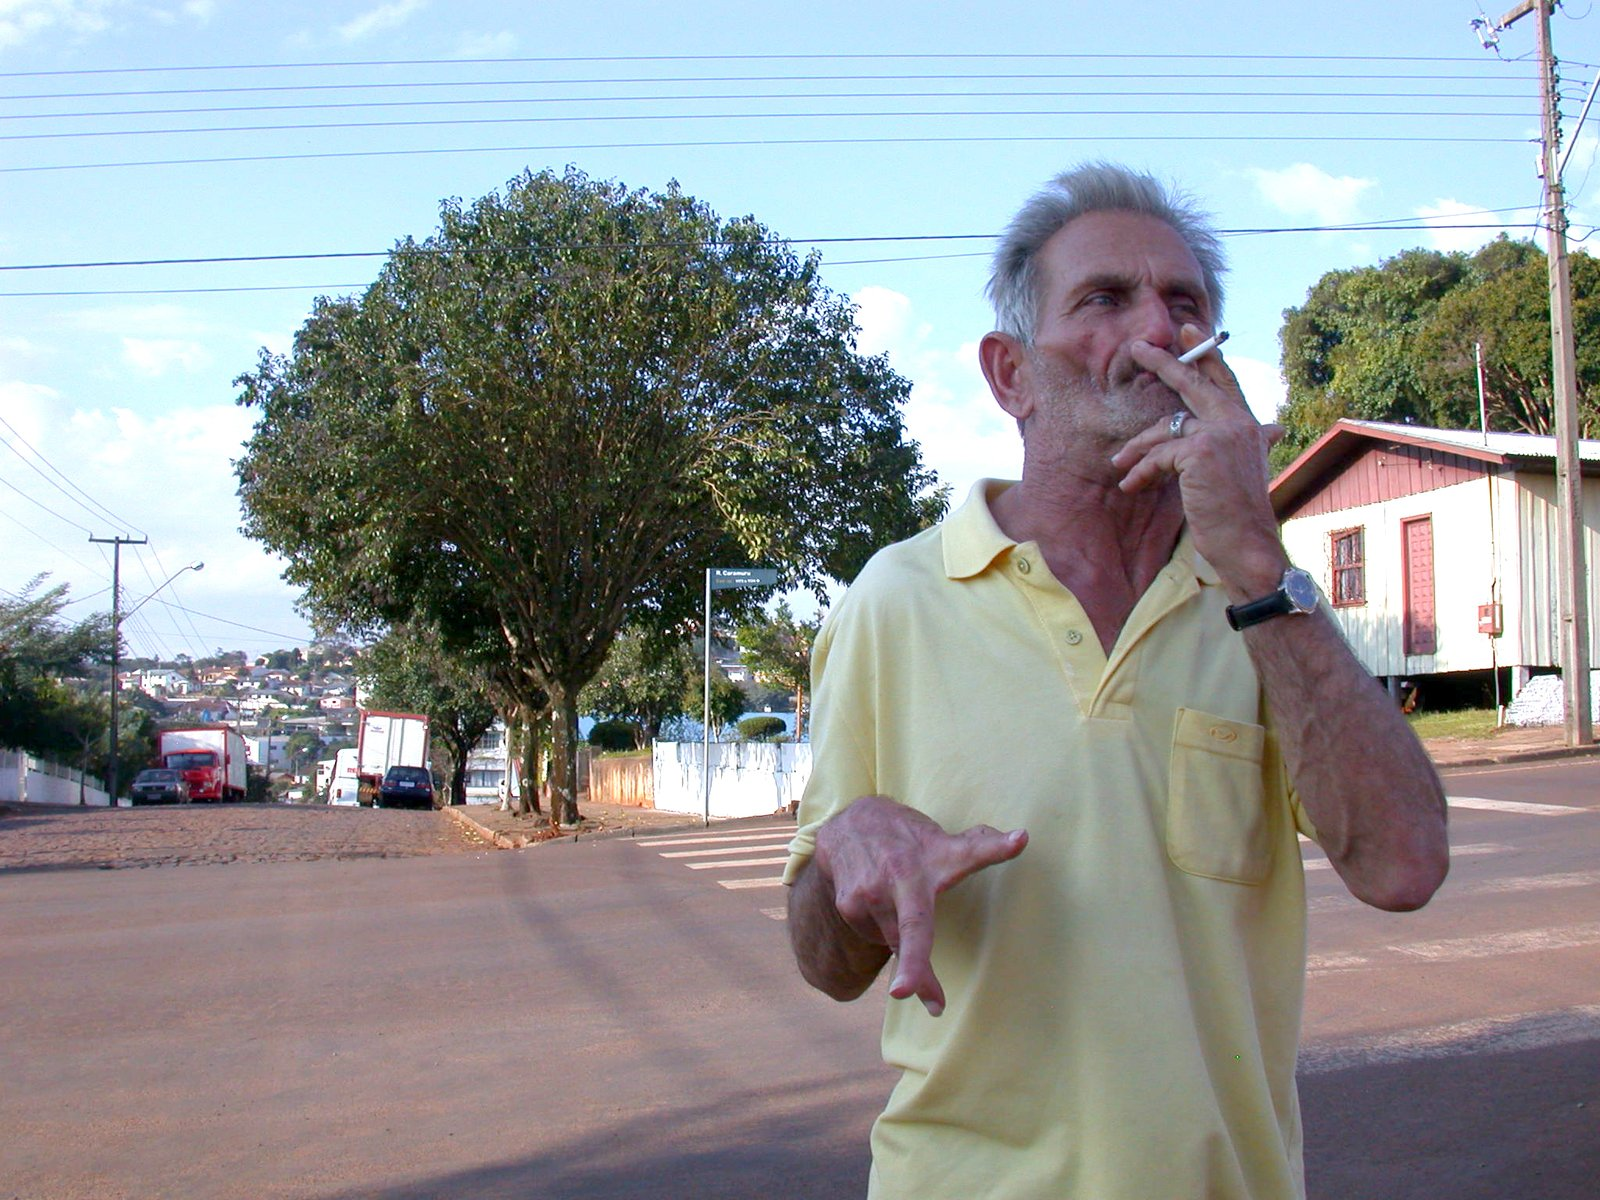cigarette: (1174, 325, 1230, 371)
